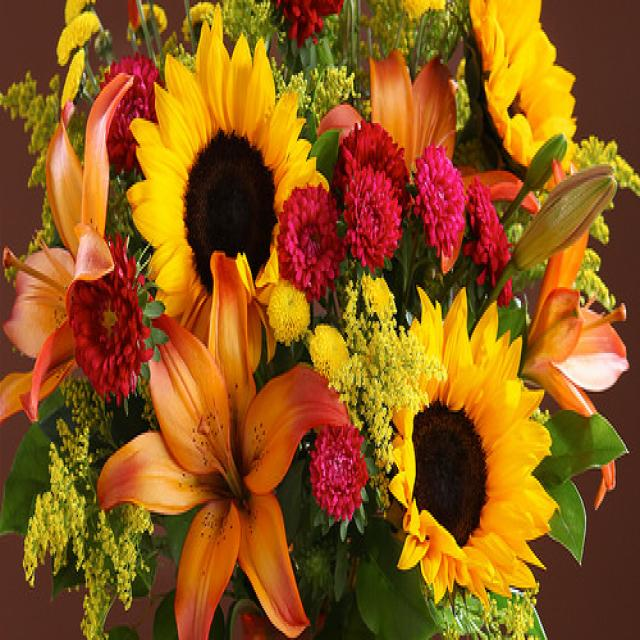sunflower: (120, 18, 332, 346), (377, 276, 559, 606), (468, 0, 580, 189)
